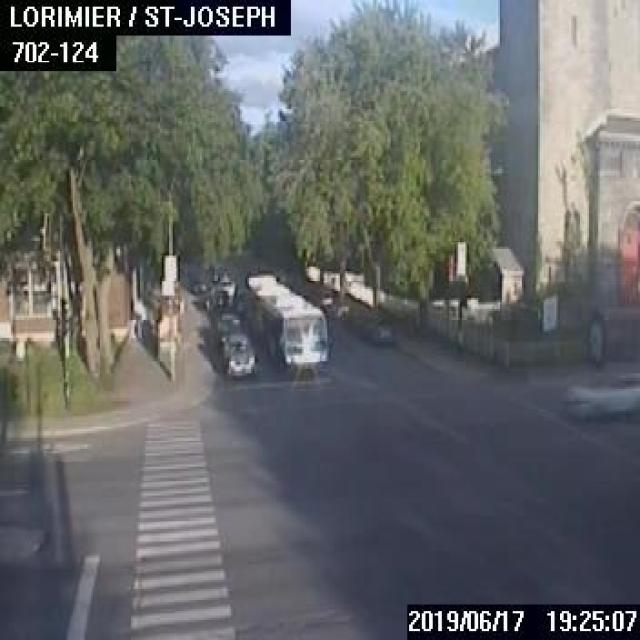bus: (243, 273, 327, 370)
vehicle: (562, 372, 638, 417), (220, 333, 253, 375), (359, 318, 394, 344), (216, 310, 238, 340), (216, 276, 233, 295)
